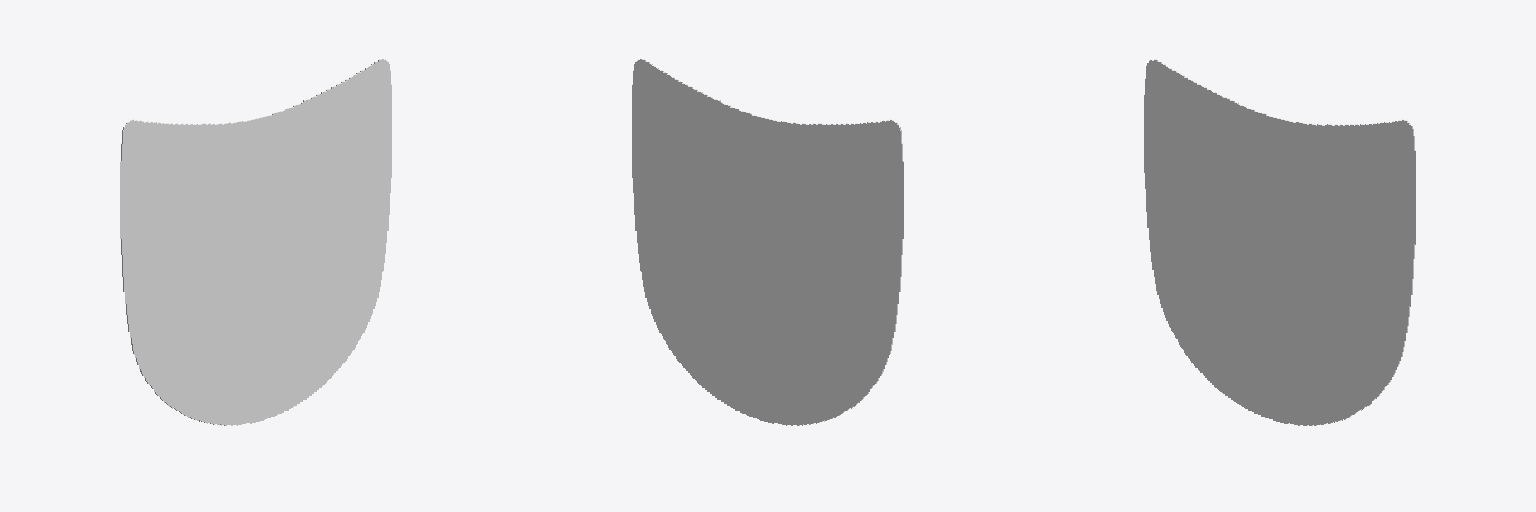
The model's file is MaskGuyScared.obj.
3 renders of one model, left to right at view 1: azimuth 30°, elevation 25°; view 2: azimuth 150°, elevation 25°; view 3: azimuth 330°, elevation 25°, orthographic.
Visible parts, largest first — view 1: object 1; view 2: object 1; view 3: object 1.
Part boxes in pixels (bbox=[...]): object 1: bbox=[120, 59, 391, 425]; object 1: bbox=[632, 59, 903, 425]; object 1: bbox=[1144, 59, 1415, 425].
Bounding box in the file's own units: 21.6 × 25.2 × 0.1.